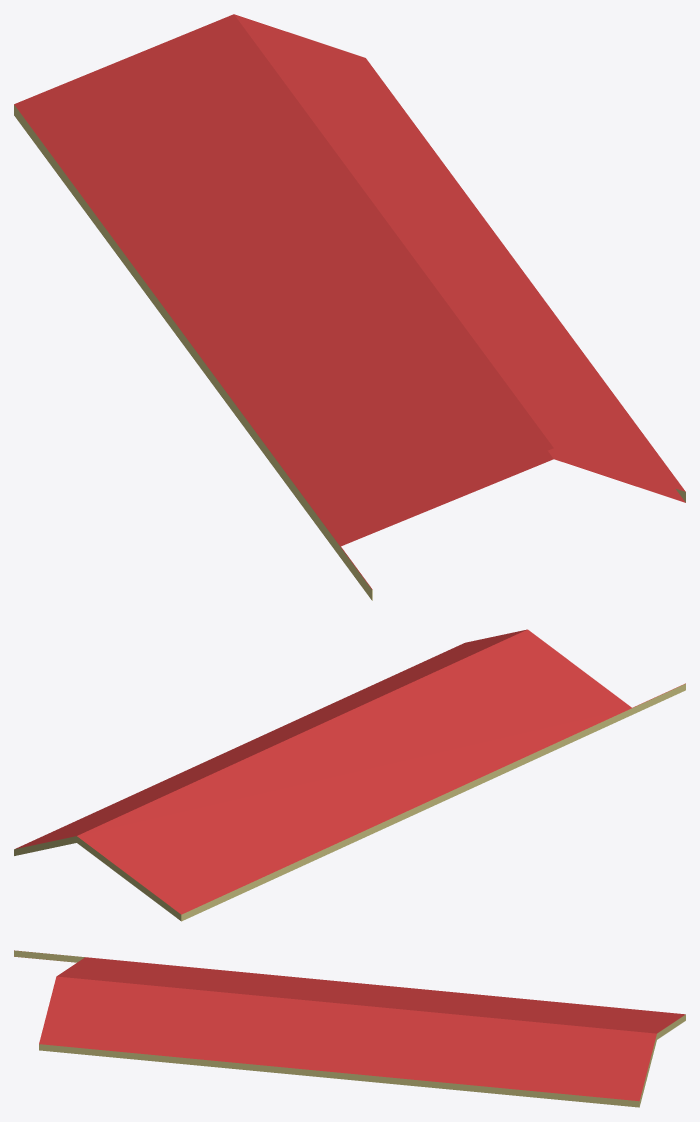
3 views of the same model, one above another, from view 1: azimuth 30°, elevation 25°; view 2: azimuth 150°, elevation 25°; view 3: azimuth 270°, elevation 25° (orthographic). The views are drawn at different scales.
Bounding box in the file's own units: 5.12 × 9.64 × 0.654.
